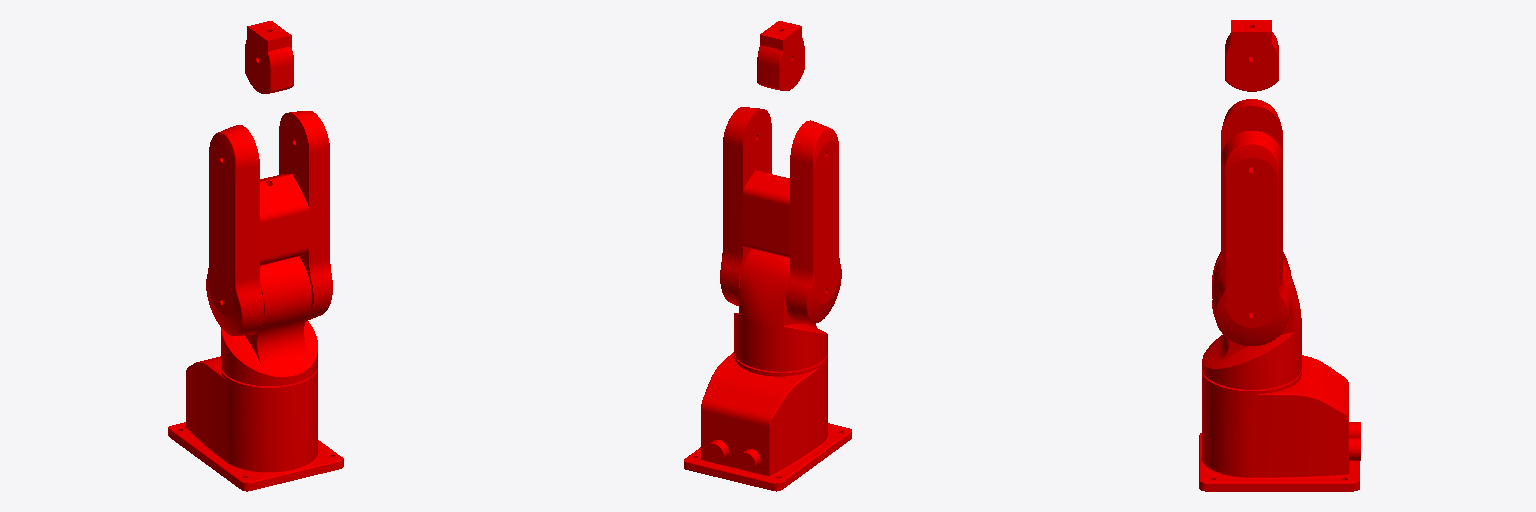
robot.urdf — arm5dof:
<?xml version="1.0" ?>
<robot name="arm5dof">
<link name="world"/>
<link name="base_link">
  <inertial>
    <origin rpy="0 0 0" xyz="7e-06 0.03889 0.07653"/>
    <mass value="5.271966"/>
    <inertia ixx="0.032682" ixy="-5e-06" ixz="1e-06" iyy="0.021924" iyz="0.001866" izz="0.030508"/>
  </inertial>
  <visual>
    <origin rpy="0 0 0" xyz="0 0 0"/>
    <geometry>
      <mesh filename="package://futaba_robot/src/bin_stl/base_link_m-binary.stl"/>
    </geometry>
    <material name="silver">
      <color rgba="1 0 0 1"/>
    </material>
  </visual>
  <collision>
    <origin rpy="0 0 0" xyz="0 0 0"/>
    <geometry>
      <mesh filename="package://futaba_robot/src/bin_stl/base_link_m-binary.stl"/>
    </geometry>
  </collision>
</link>
<link name="link3s__1">
  <inertial>
    <origin rpy="0 0 0" xyz="-0.042829000000000006 2.3e-05 0.06906599999999996"/>
    <mass value="1.684049"/>
    <inertia ixx="0.007772" ixy="-0.0" ixz="1.3e-05" iyy="0.008317" iyz="5e-05" izz="0.002924"/>
  </inertial>
  <visual>
    <origin rpy="0 0 0" xyz="-0.0425 -0.0 -0.55"/>
    <geometry>
      <mesh filename="package://futaba_robot/src/bin_stl/link3s__1_m-binary.stl"/>
    </geometry>
    <material name="silver">
      <color rgba="1 0 0 1"/>
    </material>
  </visual>
  <collision>
    <origin rpy="0 0 0" xyz="-0.0425 -0.0 -0.55"/>
    <geometry>
      <mesh filename="package://futaba_robot/src/bin_stl/link3s__1_m-binary.stl"/>
    </geometry>
  </collision>
</link>
<link name="link4s__1">
  <inertial>
    <origin rpy="0 0 0" xyz="-0.022 0.0 -0.005205999999999933"/>
    <mass value="0.32285"/>
    <inertia ixx="0.000412" ixy="0.0" ixz="-0.0" iyy="0.0003" iyz="0.0" izz="0.000217"/>
  </inertial>
  <visual>
    <origin rpy="0 0 0" xyz="-0.022 0.0 -0.71"/>
    <geometry>
      <mesh filename="package://futaba_robot/src/bin_stl/link4s__1_m-binary.stl"/>
    </geometry>
    <material name="silver">
      <color rgba="1 0 0 1"/>
    </material>
  </visual>
  <collision>
    <origin rpy="0 0 0" xyz="-0.022 0.0 -0.71"/>
    <geometry>
      <mesh filename="package://futaba_robot/src/bin_stl/link4s__1_m-binary.stl"/>
    </geometry>
  </collision>
</link>
<link name="link1s__1">
  <inertial>
    <origin rpy="0 0 0" xyz="1e-06 0.007169 0.08051"/>
    <mass value="2.279281"/>
    <inertia ixx="0.009614" ixy="0.0" ixz="0.0" iyy="0.009161" iyz="0.000188" izz="0.00513"/>
  </inertial>
  <visual>
    <origin rpy="0 0 0" xyz="0.0 0.0 -0.168"/>
    <geometry>
      <mesh filename="package://futaba_robot/src/bin_stl/link1s__1_m-binary.stl"/>
    </geometry>
    <material name="silver">
      <color rgba="1 0 0 1"/>
    </material>
  </visual>
  <collision>
    <origin rpy="0 0 0" xyz="0.0 0.0 -0.168"/>
    <geometry>
      <mesh filename="package://futaba_robot/src/bin_stl/link1s__1_m-binary.stl"/>
    </geometry>
  </collision>
</link>
<link name="link2s__1">
  <inertial>
    <origin rpy="0 0 0" xyz="-0.0455 0.000459 0.115006"/>
    <mass value="3.654454"/>
    <inertia ixx="0.029584" ixy="-0.0" ixz="-0.0" iyy="0.039619" iyz="-7.1e-05" izz="0.015467"/>
  </inertial>
  <visual>
    <origin rpy="0 0 0" xyz="-0.0455 -0.0 -0.3"/>
    <geometry>
      <mesh filename="package://futaba_robot/src/bin_stl/link2s__1_m-binary.stl"/>
    </geometry>
    <material name="silver">
      <color rgba="1 0 0 1"/>
    </material>
  </visual>
  <collision>
    <origin rpy="0 0 0" xyz="-0.0455 -0.0 -0.3"/>
    <geometry>
      <mesh filename="package://futaba_robot/src/bin_stl/link2s__1_m-binary.stl"/>
    </geometry>
  </collision>
</link>
<joint name="fixed" type="fixed">
  <parent link="world"/>
  <child link="base_link"/>
</joint>
<joint name="servo1" type="continuous">
  <origin rpy="0 0 0" xyz="0.0 0.0 0.168"/>
  <parent link="base_link"/>
  <child link="link1s__1"/>
  <axis xyz="0.0 0.0 0.01"/>
</joint>
<transmission name="servo1_tran">
  <type>transmission_interface/SimpleTransmission</type>
  <joint name="servo1">
    <hardwareInterface>PositionJointInterface</hardwareInterface>
  </joint>
  <actuator name="servo1_actr">
    <hardwareInterface>PositionJointInterface</hardwareInterface>
    <mechanicalReduction>1</mechanicalReduction>
  </actuator>
</transmission>
<joint name="servo2" type="continuous">
  <origin rpy="0 0 0" xyz="0.0455 0.0 0.132"/>
  <parent link="link1s__1"/>
  <child link="link2s__1"/>
  <axis xyz="0.01 0.0 0.0"/>
</joint>
<transmission name="servo2_tran">
  <type>transmission_interface/SimpleTransmission</type>
  <joint name="servo2">
    <hardwareInterface>PositionJointInterface</hardwareInterface>
  </joint>
  <actuator name="servo2_actr">
    <hardwareInterface>PositionJointInterface</hardwareInterface>
    <mechanicalReduction>1</mechanicalReduction>
  </actuator>
</transmission>
<joint name="servo3" type="continuous">
  <origin rpy="0 0 0" xyz="-0.003 0.0 0.25"/>
  <parent link="link2s__1"/>
  <child link="link3s__1"/>
  <axis xyz="-0.01 -0.0 -0.0"/>
</joint>
<transmission name="servo3_tran">
  <type>transmission_interface/SimpleTransmission</type>
  <joint name="servo3">
    <hardwareInterface>PositionJointInterface</hardwareInterface>
  </joint>
  <actuator name="servo3_actr">
    <hardwareInterface>PositionJointInterface</hardwareInterface>
    <mechanicalReduction>1</mechanicalReduction>
  </actuator>
</transmission>
<joint name="servo4" type="continuous">
  <origin rpy="0 0 0" xyz="-0.0205 -0.0 0.16"/>
  <parent link="link3s__1"/>
  <child link="link4s__1"/>
  <axis xyz="-0.01 -0.0 0.0"/>
</joint>
<transmission name="servo4_tran">
  <type>transmission_interface/SimpleTransmission</type>
  <joint name="servo4">
    <hardwareInterface>PositionJointInterface</hardwareInterface>
  </joint>
  <actuator name="servo4_actr">
    <hardwareInterface>PositionJointInterface</hardwareInterface>
    <mechanicalReduction>1</mechanicalReduction>
  </actuator>
</transmission>
<gazebo>
  <plugin name="control" filename="libgazebo_ros_control.so"/>
  <plugin name="joint_state_publisher" filename="libgazebo_ros_joint_state_publisher.so">
    <jointName>servo1, servo2, servo3, servo4</jointName>
  </plugin>
</gazebo>
</robot>

--- What the picture shows (computed from the rendered views, not written in the file) ---
The picture shows the robot from 3 angles, left to right: view 1: azimuth 30°, elevation 25°; view 2: azimuth 150°, elevation 25°; view 3: azimuth 270°, elevation 25°; orthographic projection.
Robot: arm5dof — 6 links, 5 joints (4 continuous, 1 fixed); root link world; default pose: every joint at zero.
Visible links, largest first — view 1: link2s__1, base_link, link1s__1, link4s__1; view 2: link2s__1, base_link, link1s__1, link4s__1; view 3: base_link, link2s__1, link1s__1, link4s__1.
Link boxes in pixels (x1,y1,x2,y2): link2s__1: (206, 111, 332, 335); base_link: (168, 356, 343, 491); link1s__1: (221, 256, 317, 385); link4s__1: (245, 21, 293, 93); link2s__1: (720, 107, 841, 323); base_link: (684, 352, 851, 491); link1s__1: (734, 249, 827, 370); link4s__1: (757, 21, 804, 90); base_link: (1199, 355, 1360, 491); link2s__1: (1212, 99, 1291, 345); link1s__1: (1202, 260, 1301, 389); link4s__1: (1225, 20, 1278, 91).
Size in the robot's own frame: 0.186 by 0.2514 by 0.756 metres.
Meshes: 5 distinct files referenced, 4 mesh visuals loaded (4 binary STL); not drawn: 1 (reference not matched to a file when rendering).